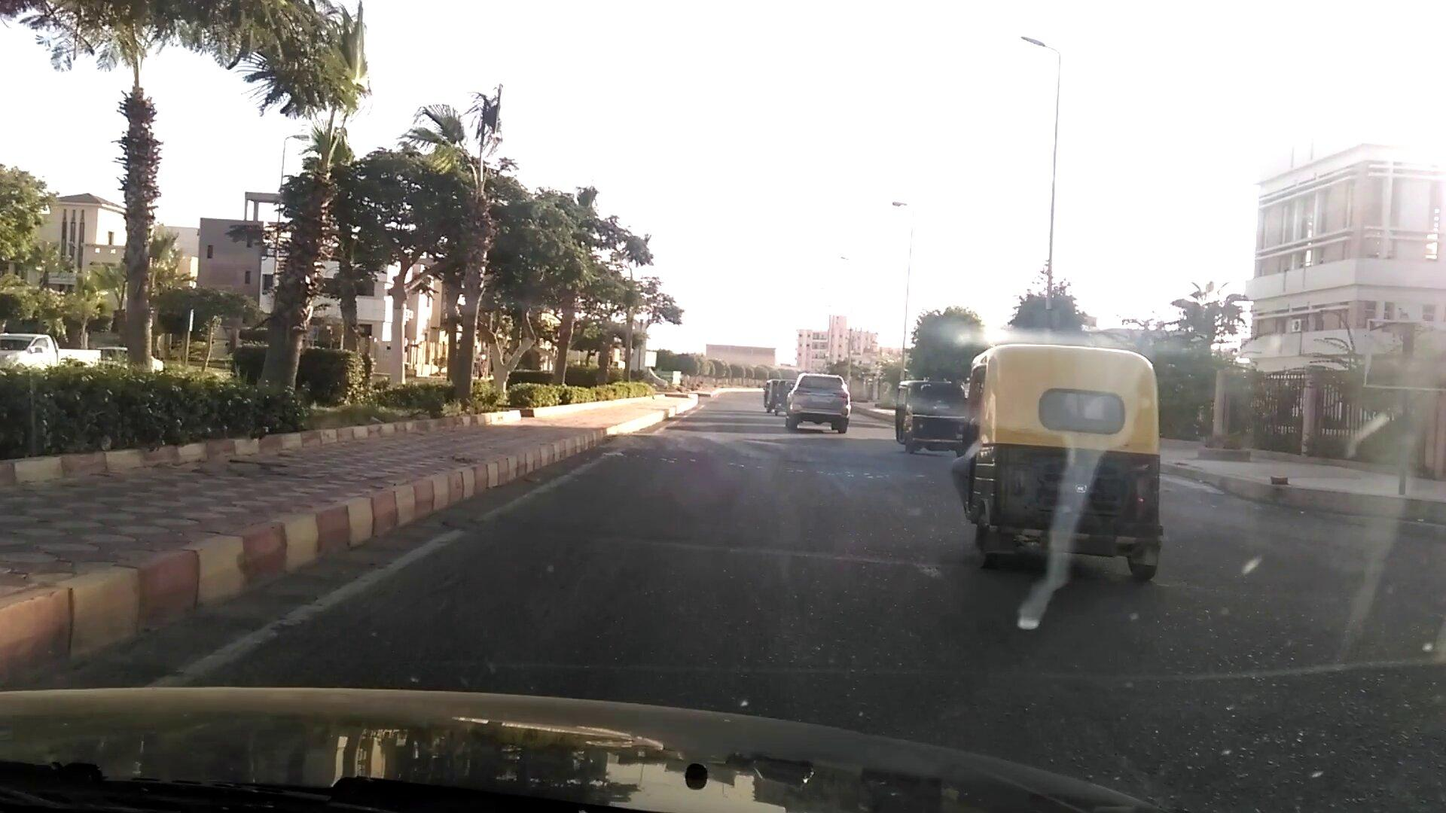Bump: (612, 425, 947, 470)
